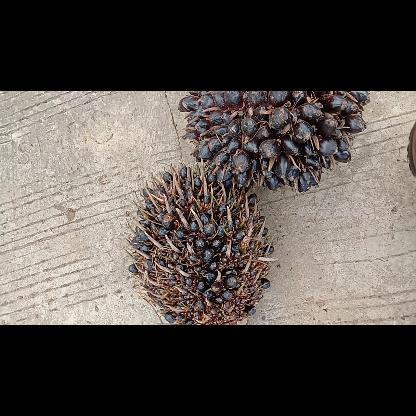TBS mentah: (127, 162, 275, 324), (174, 91, 370, 195)
